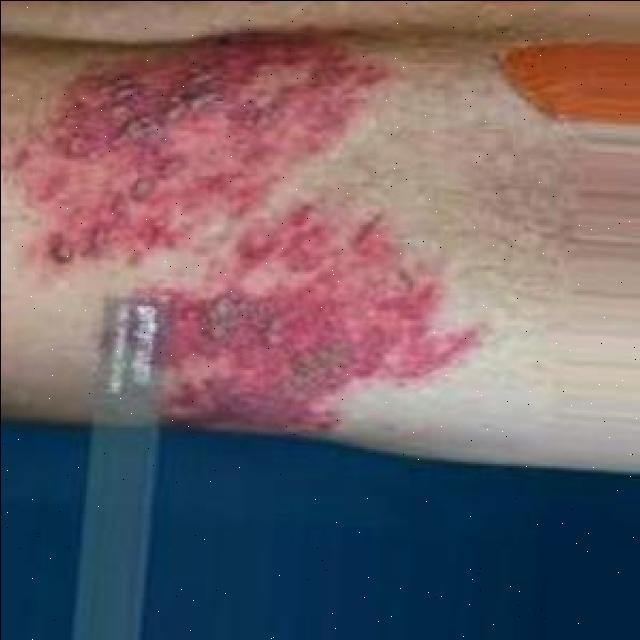Shingles: (16, 29, 386, 269), (144, 202, 470, 429)
